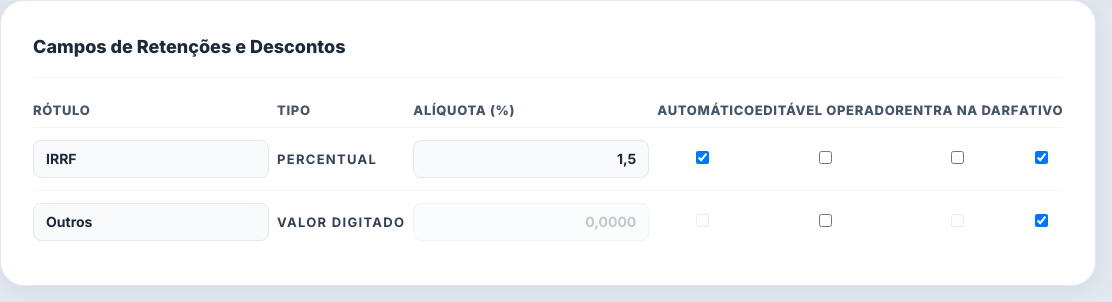
Test case: RetencoesCamposTable › digitar na alíquota remove caracteres inválidos (só dígitos e vírgula)
This screenshot has width=1112, height=302.
Replace the text in the field named "Alíquota de IRRF" with "2abc,5" at (531, 159), box [413,140,649,178]
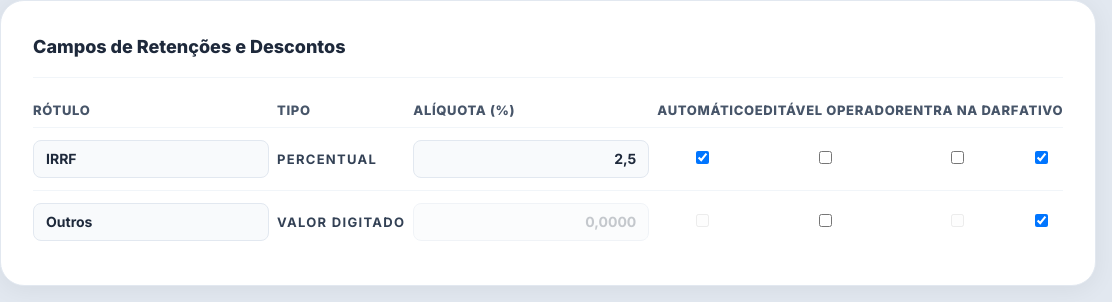
Expected: the field named "Alíquota de IRRF" holds "2,5", [413,140,649,178]
